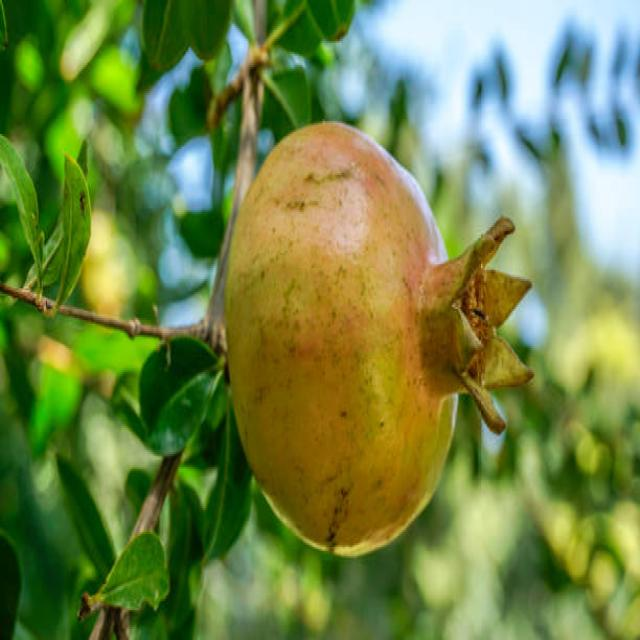Unripe: (224, 121, 536, 559)
